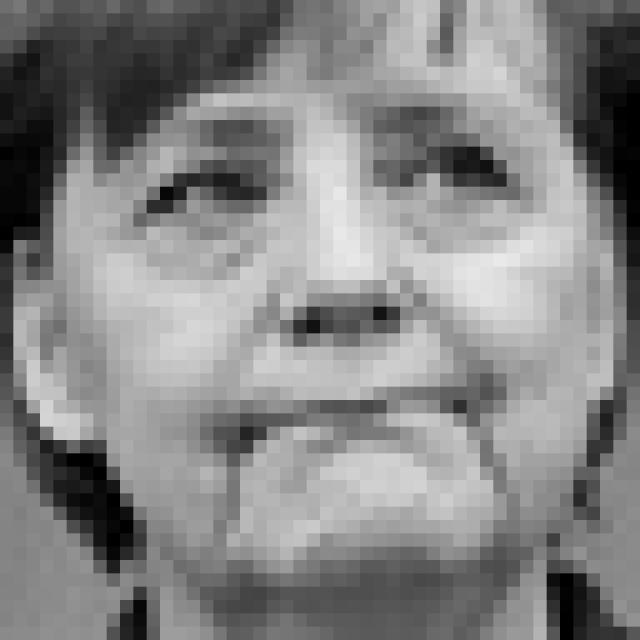sad: (122, 84, 564, 534)
